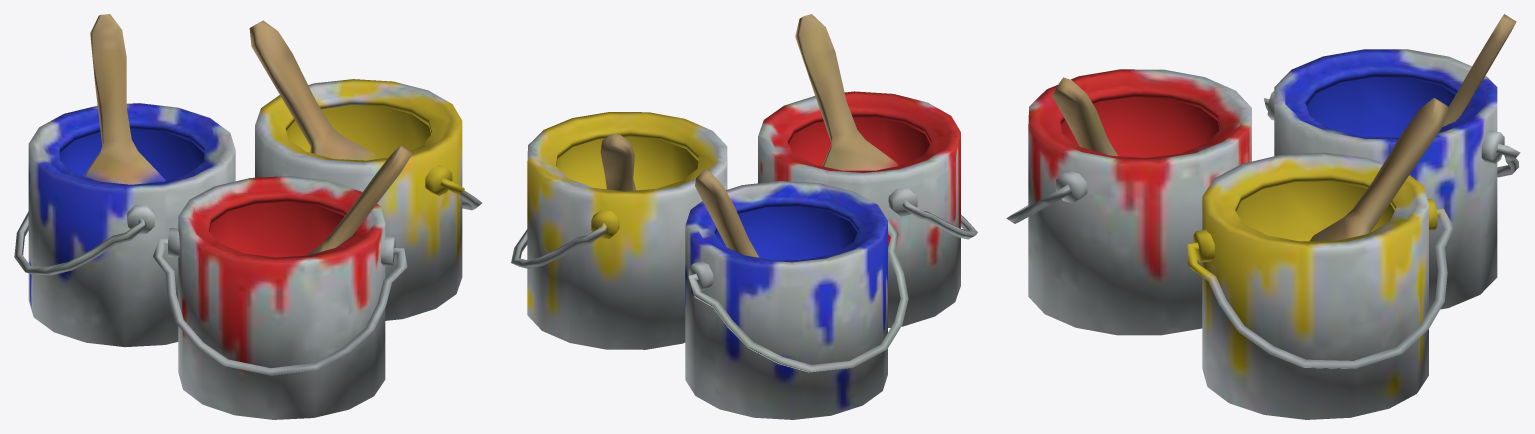
3 views of the same model, side by side, from view 1: azimuth 30°, elevation 25°; view 2: azimuth 150°, elevation 25°; view 3: azimuth 270°, elevation 25° (orthographic). The views are drawn at different scales.
Bounding box in the file's own units: 8.97 × 5.16 × 9.03.
Materials: 1 (1 with a texture image).
